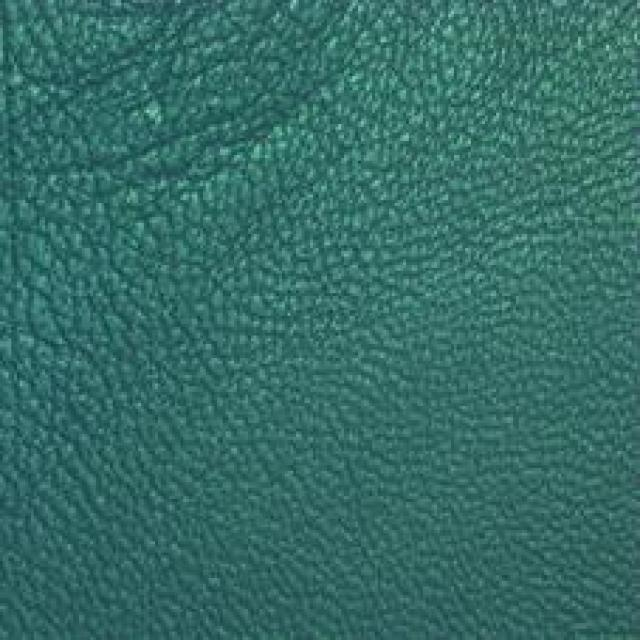Growth Marks: (44, 19, 336, 239)
